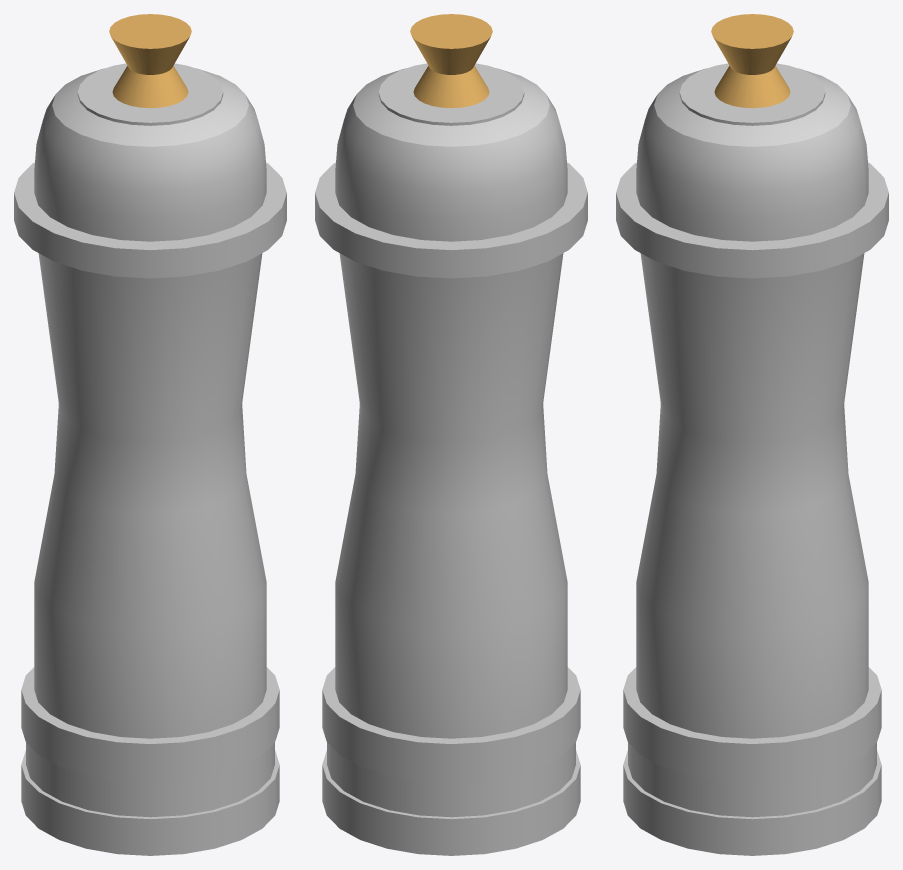
Rendered from salt.fbx.
The picture shows the model from 3 angles, left to right: view 1: azimuth 30°, elevation 25°; view 2: azimuth 150°, elevation 25°; view 3: azimuth 270°, elevation 25°; orthographic projection.
Visible parts, largest first — view 1: Cylinder.001; view 2: Cylinder.001; view 3: Cylinder.001.
Boxes of the visible parts, bbox=[...] form: Cylinder.001: bbox=[14, 14, 286, 855]; Cylinder.001: bbox=[315, 14, 587, 855]; Cylinder.001: bbox=[616, 14, 888, 855].
Bounding box in the file's own units: 25.37 × 79 × 25.37.
